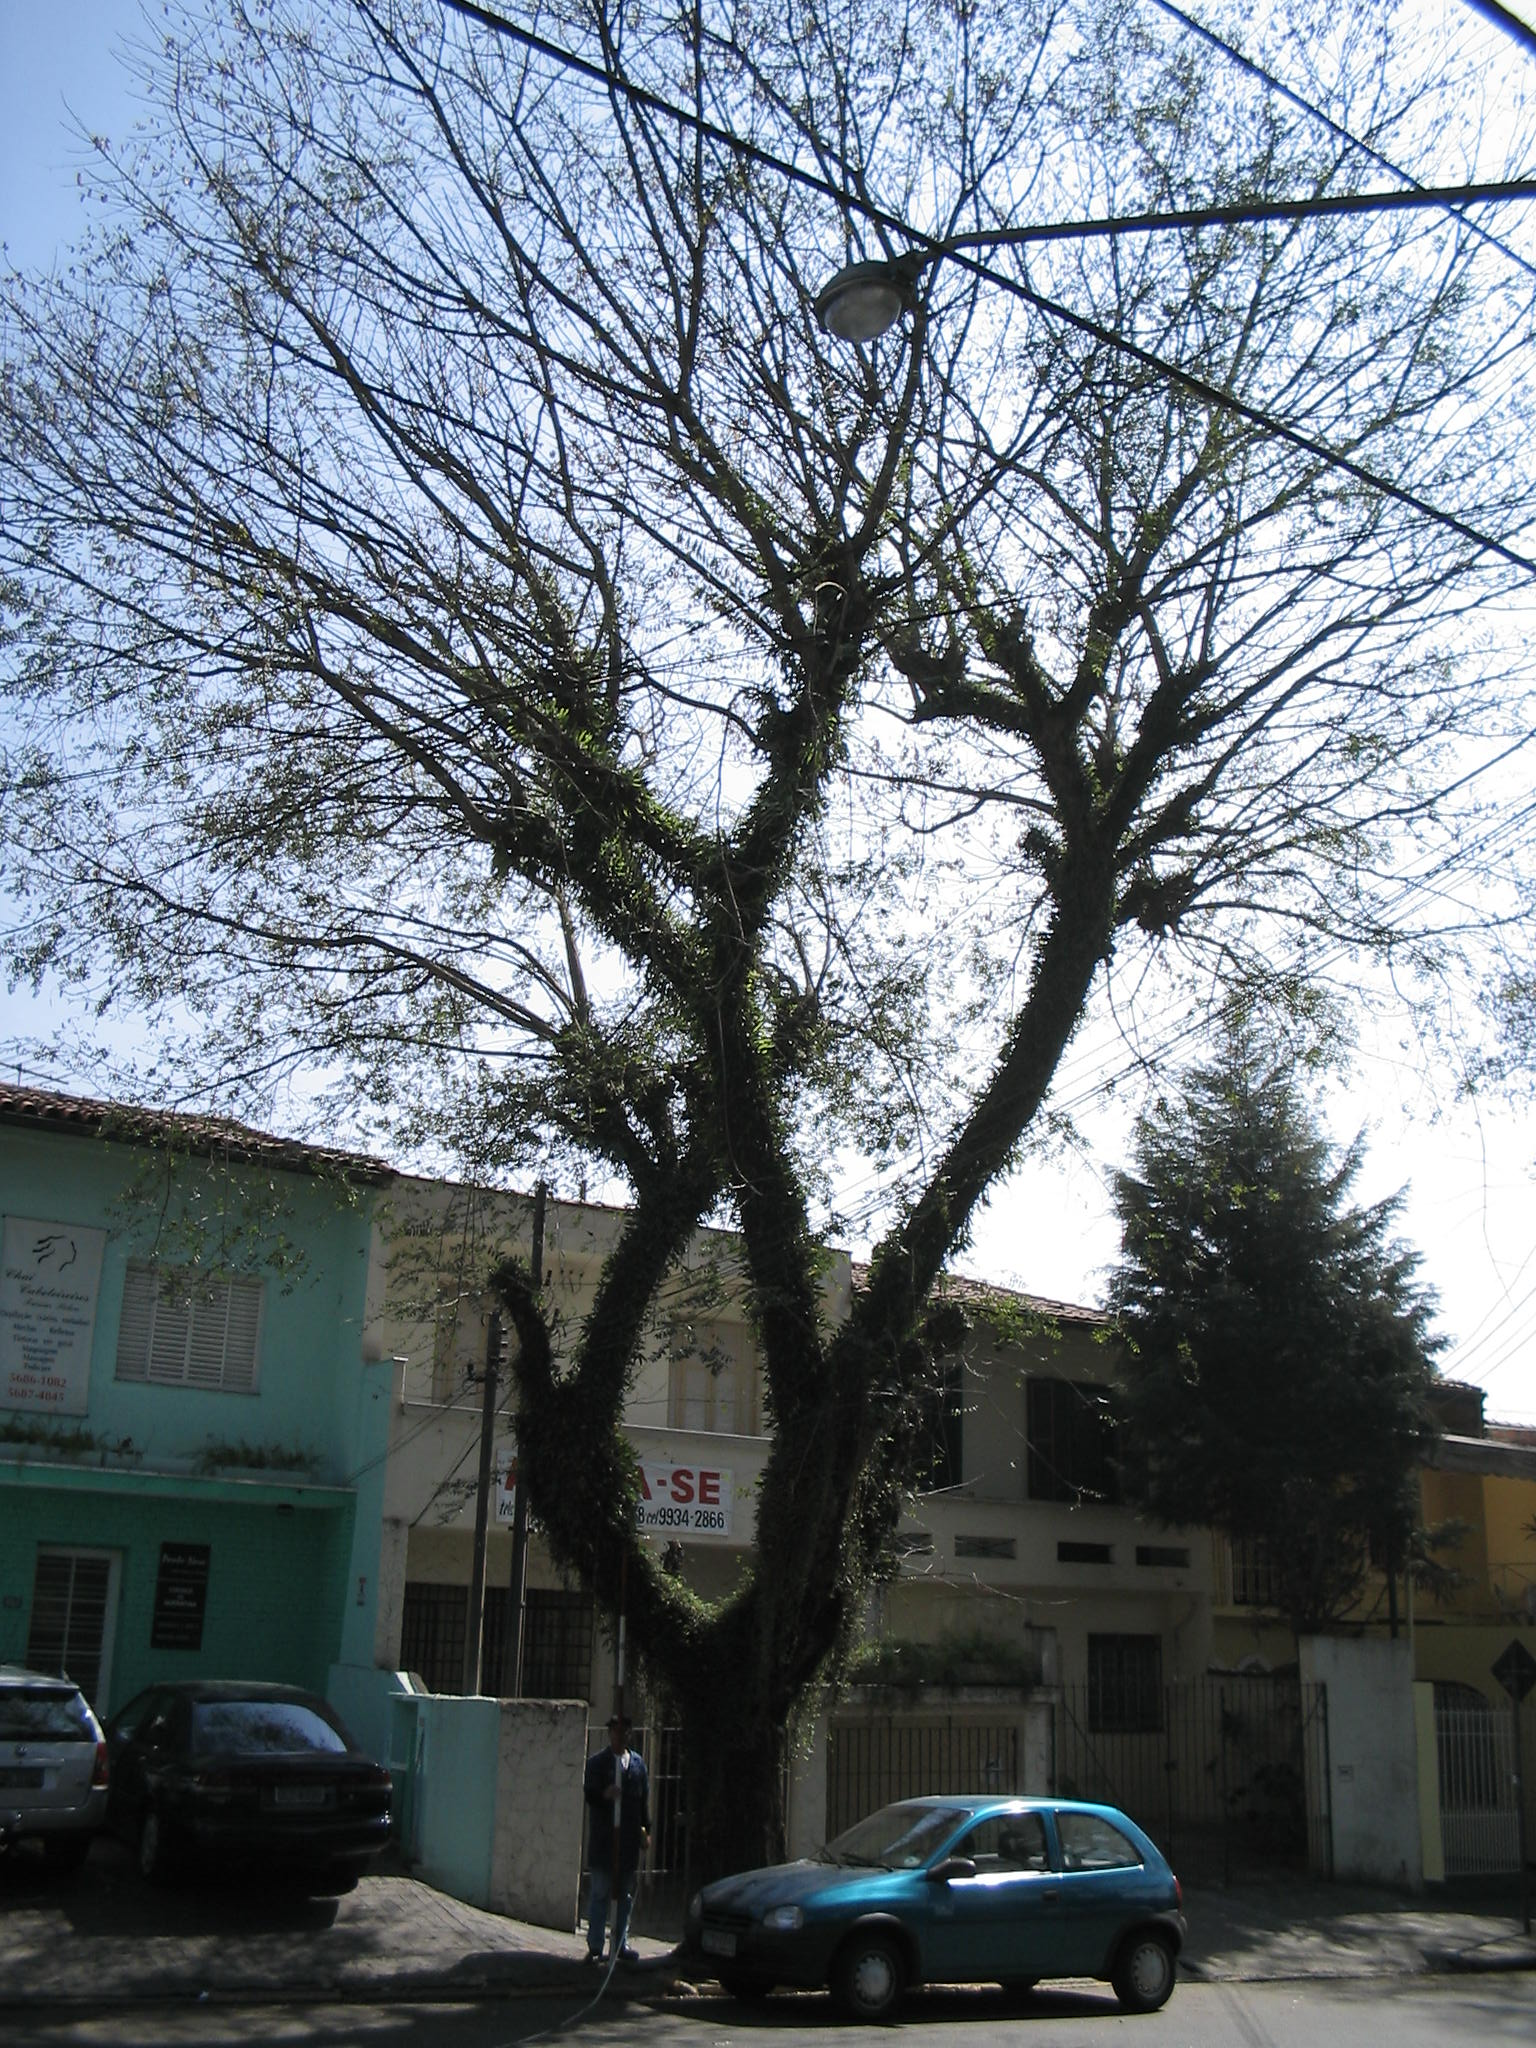stem: (652, 1645, 836, 1961)
stick: (578, 1550, 660, 1963)
tree: (2, 3, 1533, 1961)
